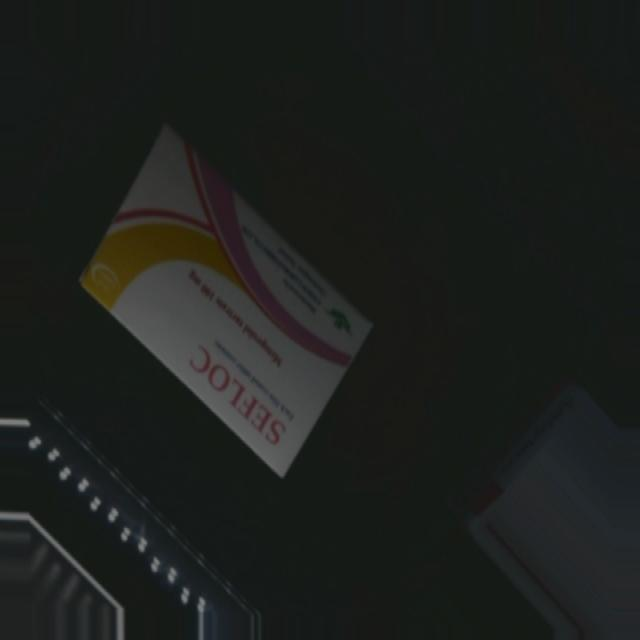medicine_name_detection: (78, 124, 372, 475)
